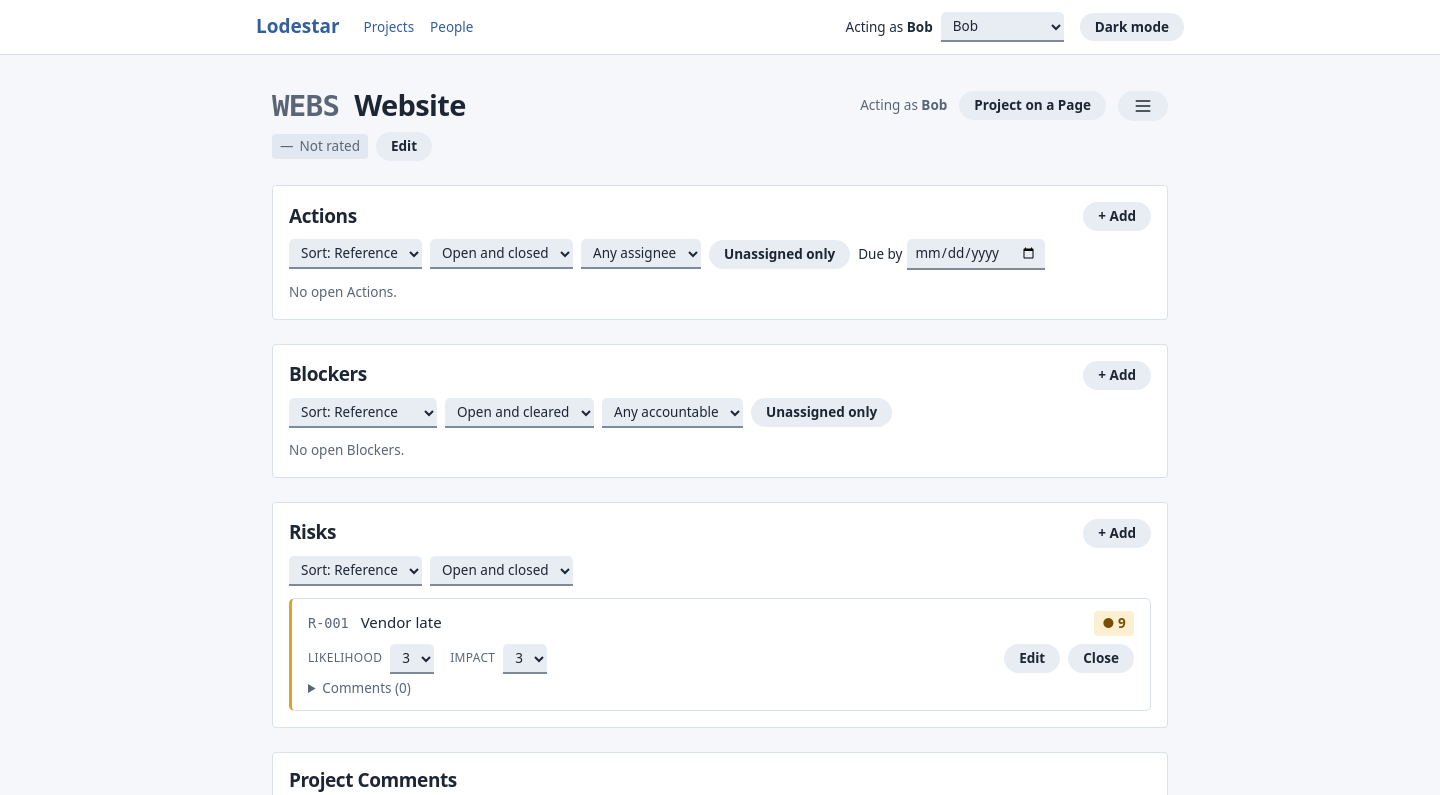
Test: Meeting in progress banner › shows the banner straight away when a write is refused by a lock
Expected: the heading "WEBS Website" is shown, [272,85,466,124]
Expected: the text "Vendor late" is shown, [361,612,442,632]
Click the button with aria-label "Edit Health Rating".
click(404, 147)  # box [376,132,432,161]
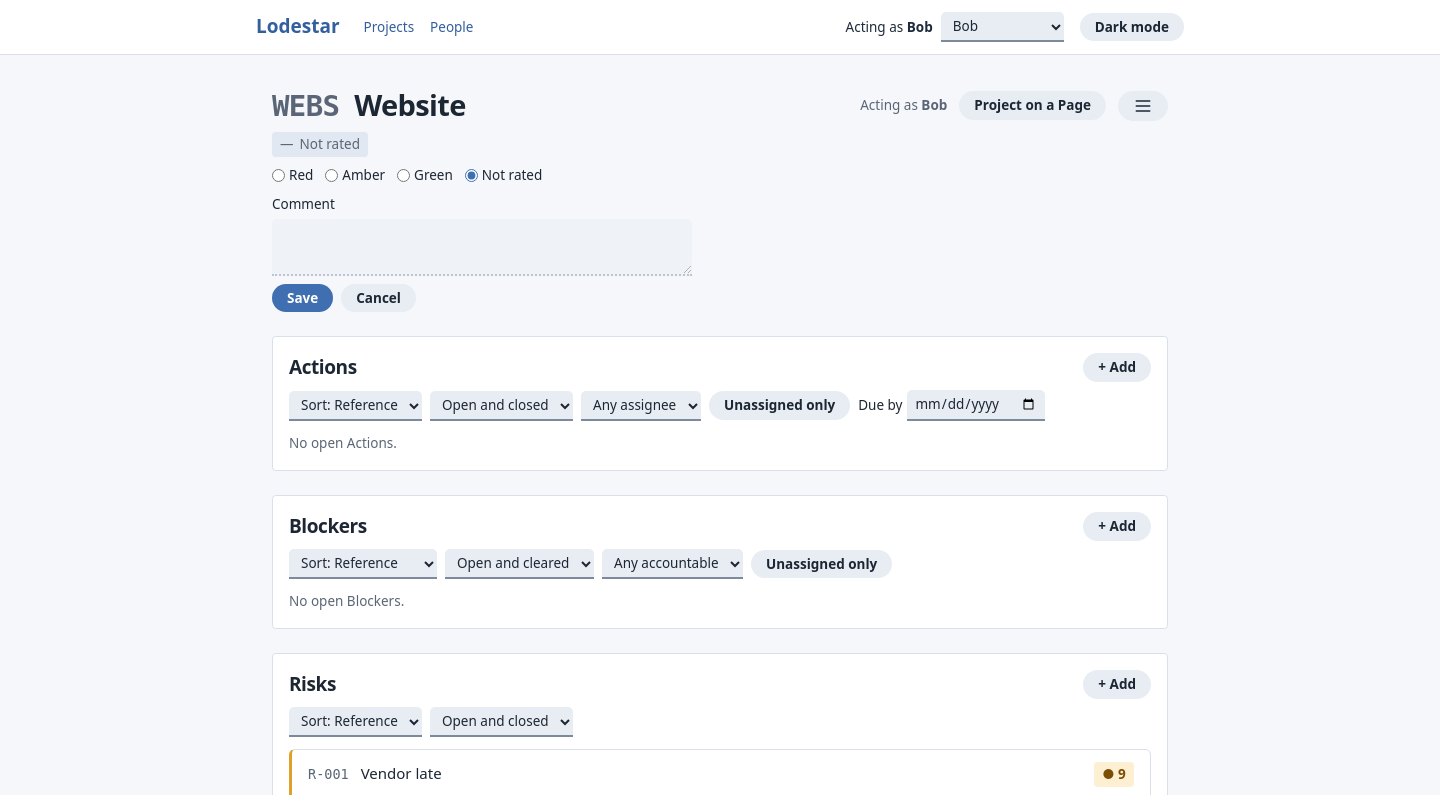
Click the radio button labelled "Green".
click(404, 176)  # box [397,169,410,182]
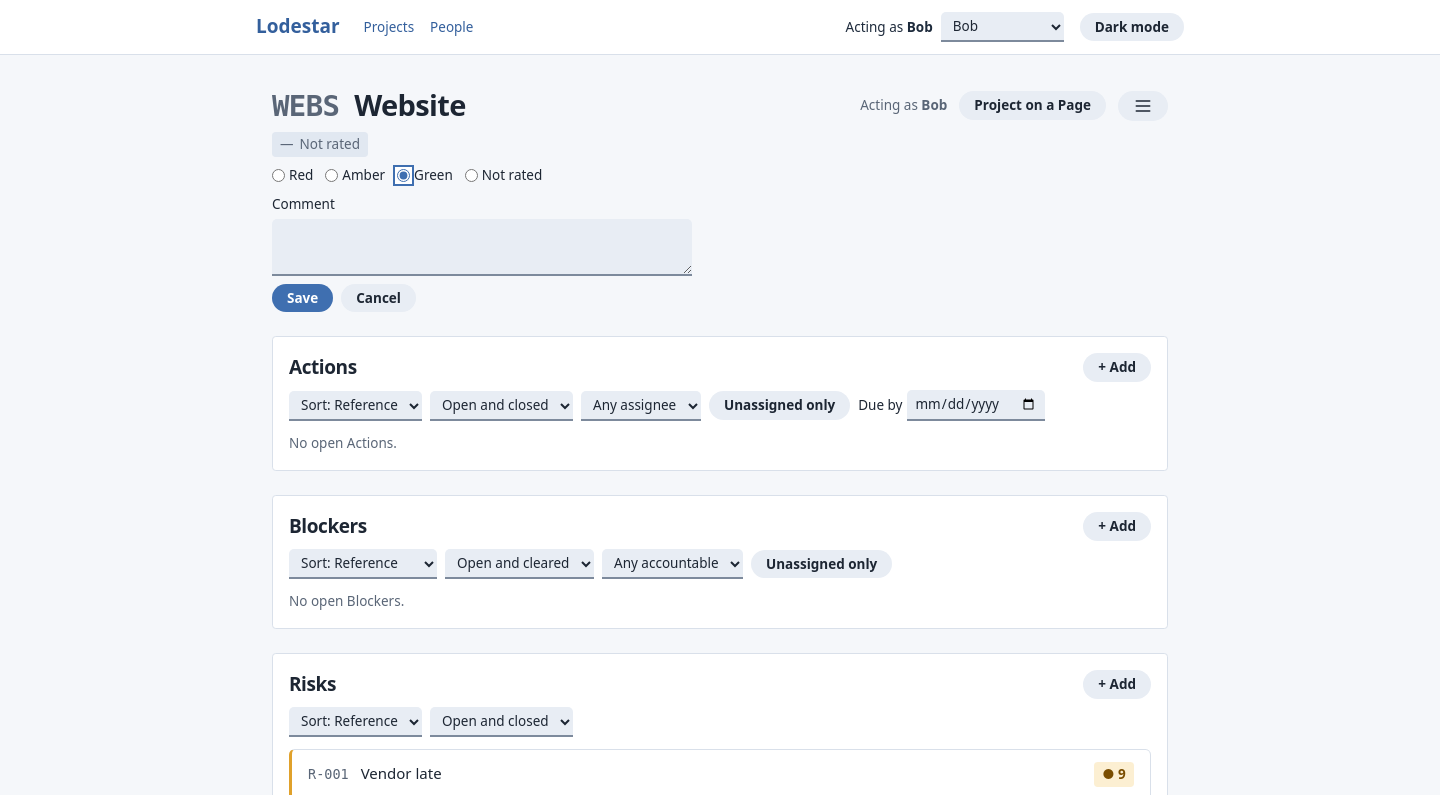
Click the button "Save".
click(303, 298)  # box [272,284,333,312]
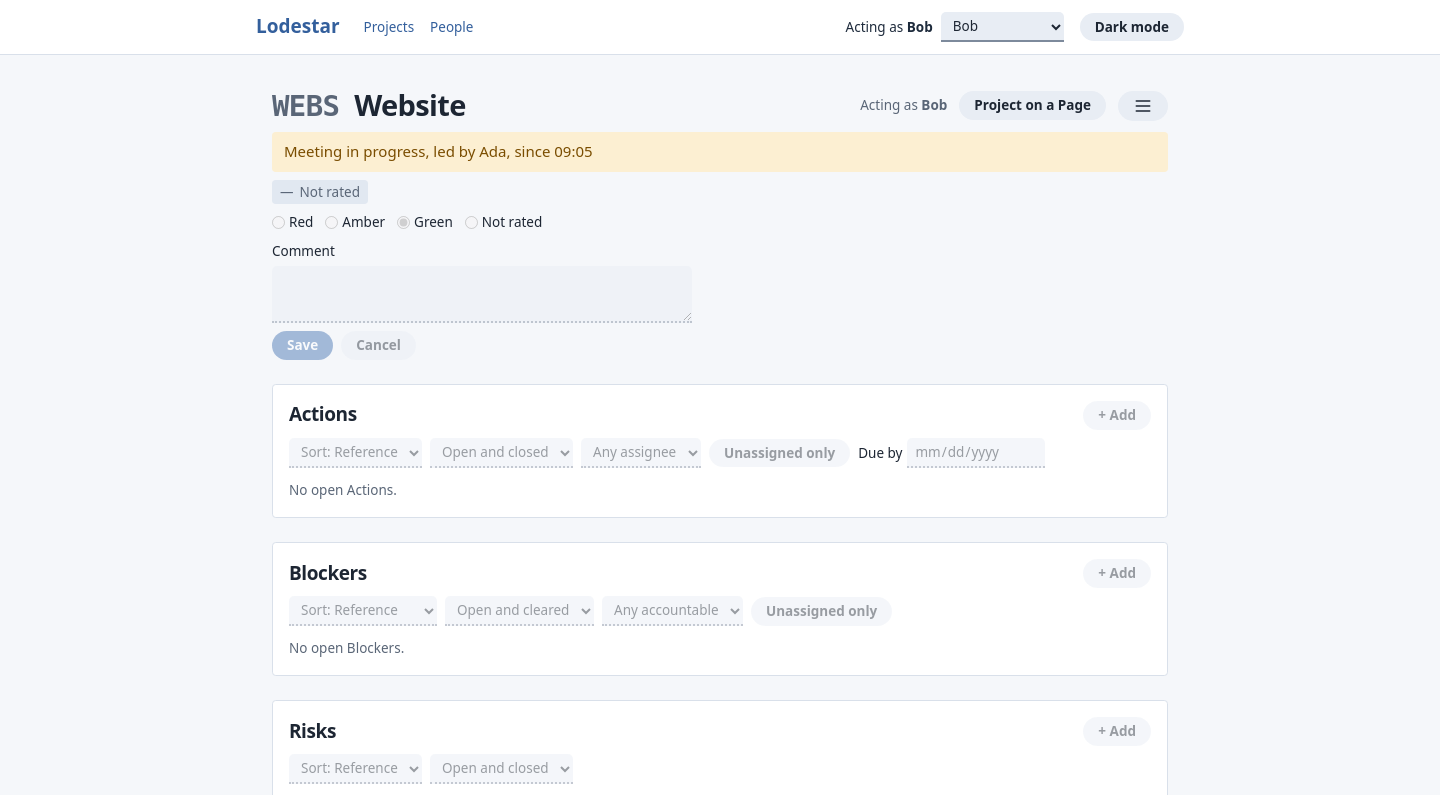
Result: the message "Meeting in progress" is shown at [272,132,1168,172]
